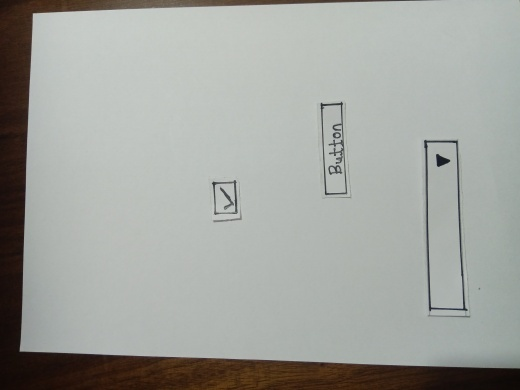button: (319, 102, 351, 193)
checkbox: (211, 181, 238, 224)
dropdown: (426, 142, 465, 316)
